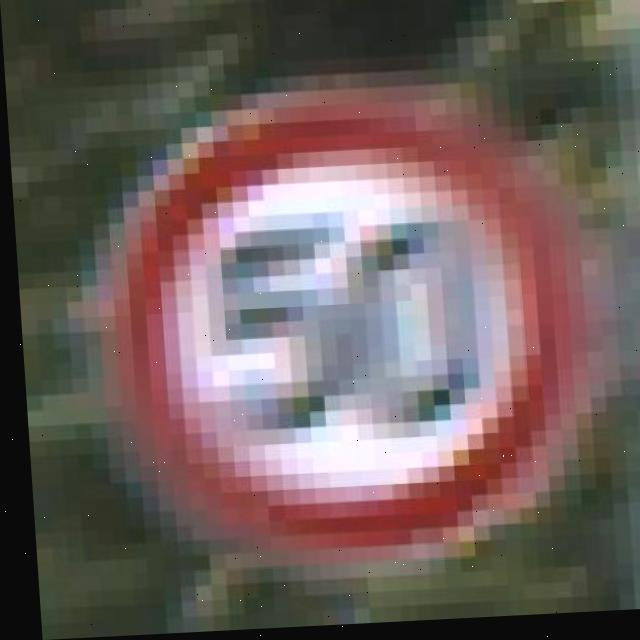Speed limit 50: (99, 79, 596, 574)
